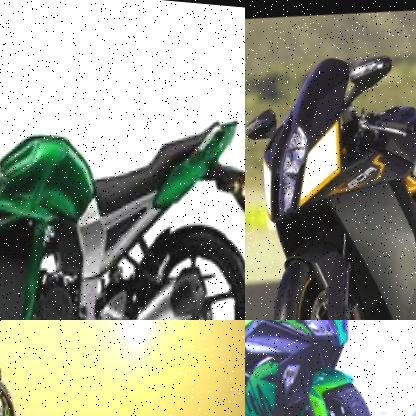bike: (0, 49, 245, 320), (245, 13, 416, 320), (0, 320, 175, 416), (245, 320, 416, 416)
